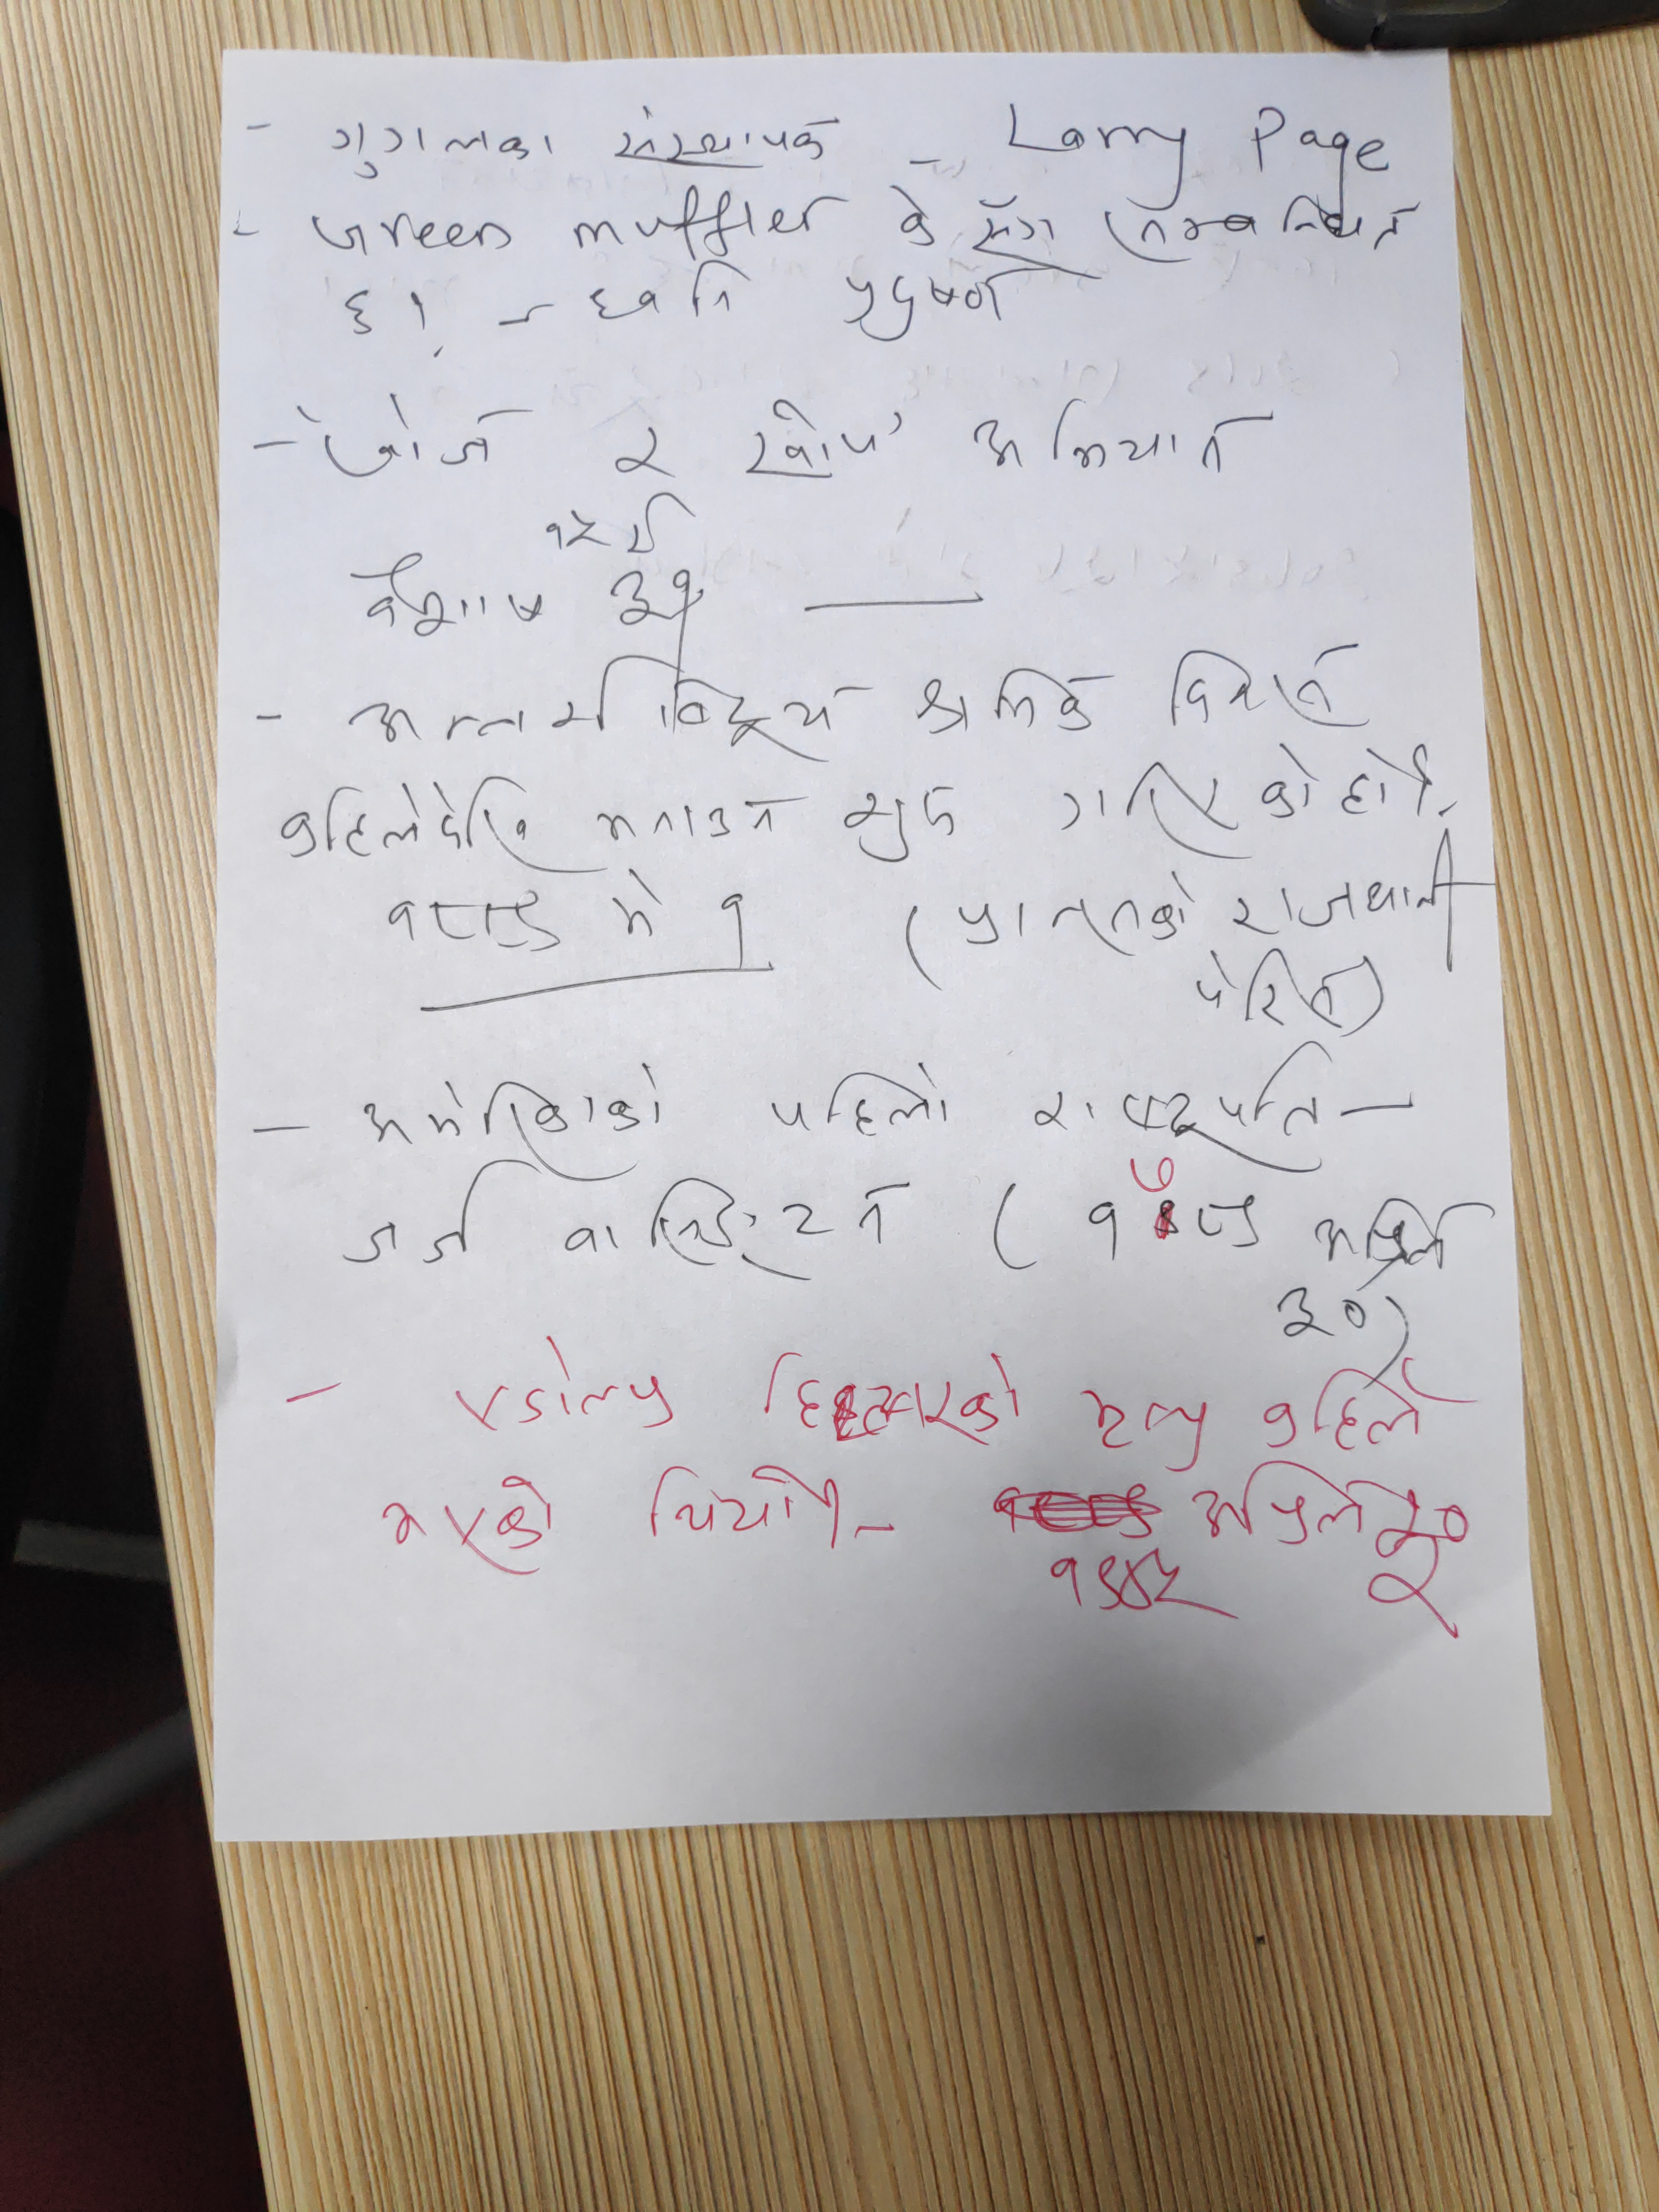text: (345, 641, 857, 761), (551, 1172, 906, 1282), (1028, 1042, 1338, 1158), (350, 1055, 666, 1160), (1047, 744, 1323, 860), (272, 772, 561, 869), (964, 394, 1284, 481), (763, 1339, 1025, 1442), (446, 1334, 678, 1439), (946, 869, 1201, 960), (373, 1472, 559, 1587), (1223, 841, 1464, 930), (1096, 192, 1419, 258), (1073, 1160, 1274, 1266), (336, 1160, 521, 1273), (488, 256, 746, 336), (1161, 637, 1363, 738), (314, 388, 530, 482), (1190, 946, 1401, 1040), (647, 1460, 845, 1554), (1314, 1190, 1493, 1292), (1256, 1360, 1445, 1458), (601, 96, 838, 172), (350, 549, 547, 639), (1044, 1547, 1234, 1635), (1188, 1460, 1373, 1548), (838, 260, 1035, 341), (741, 392, 910, 486), (1378, 1491, 1480, 1648), (767, 1057, 955, 1141), (326, 113, 556, 179), (906, 669, 1112, 740), (1075, 1381, 1218, 1477), (378, 885, 565, 958), (586, 787, 786, 840), (843, 780, 957, 864), (974, 192, 1079, 266), (605, 563, 702, 632), (601, 862, 667, 954), (1277, 1278, 1368, 1343), (1337, 742, 1403, 826), (610, 416, 676, 488), (884, 179, 945, 254), (704, 885, 756, 968), (333, 282, 392, 345), (547, 507, 606, 561)
